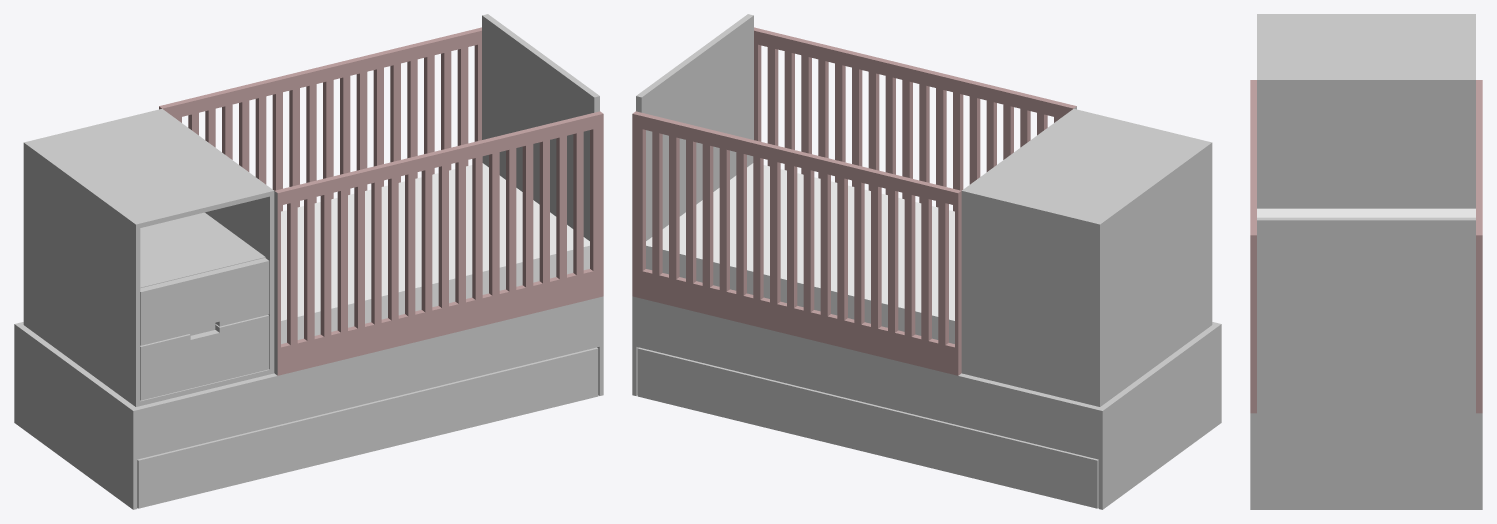
File: Crib2.gltf
3 renders of one model, left to right at view 1: azimuth 30°, elevation 25°; view 2: azimuth 150°, elevation 25°; view 3: azimuth 270°, elevation 25°, orthographic. The views are drawn at different scales.
Parts seen in each view (by area): view 1: Layer0_001, Group_001, Group_002; view 2: Layer0_001, Group_002, Group_001; view 3: Layer0_001, Group_002, Group_001.
Boxes of the visible parts, <box> form: Layer0_001: <box>14,14,603,509</box>; Group_001: <box>274,111,603,375</box>; Group_002: <box>159,27,481,211</box>; Layer0_001: <box>632,14,1221,509</box>; Group_002: <box>632,111,961,375</box>; Group_001: <box>754,27,1076,211</box>; Layer0_001: <box>1250,14,1482,509</box>; Group_002: <box>1476,80,1482,413</box>; Group_001: <box>1250,80,1256,413</box>.
Bounding box in the file's own units: 1.94 × 1.17 × 0.85.
